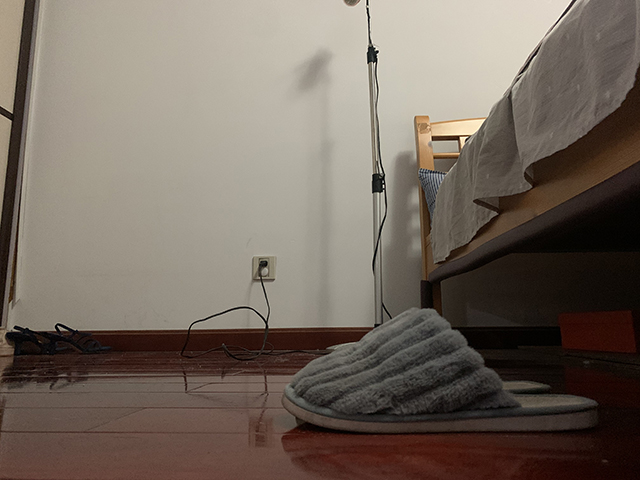bed: (413, 1, 638, 318)
slippers: (280, 306, 598, 435)
wire: (169, 257, 326, 363)
